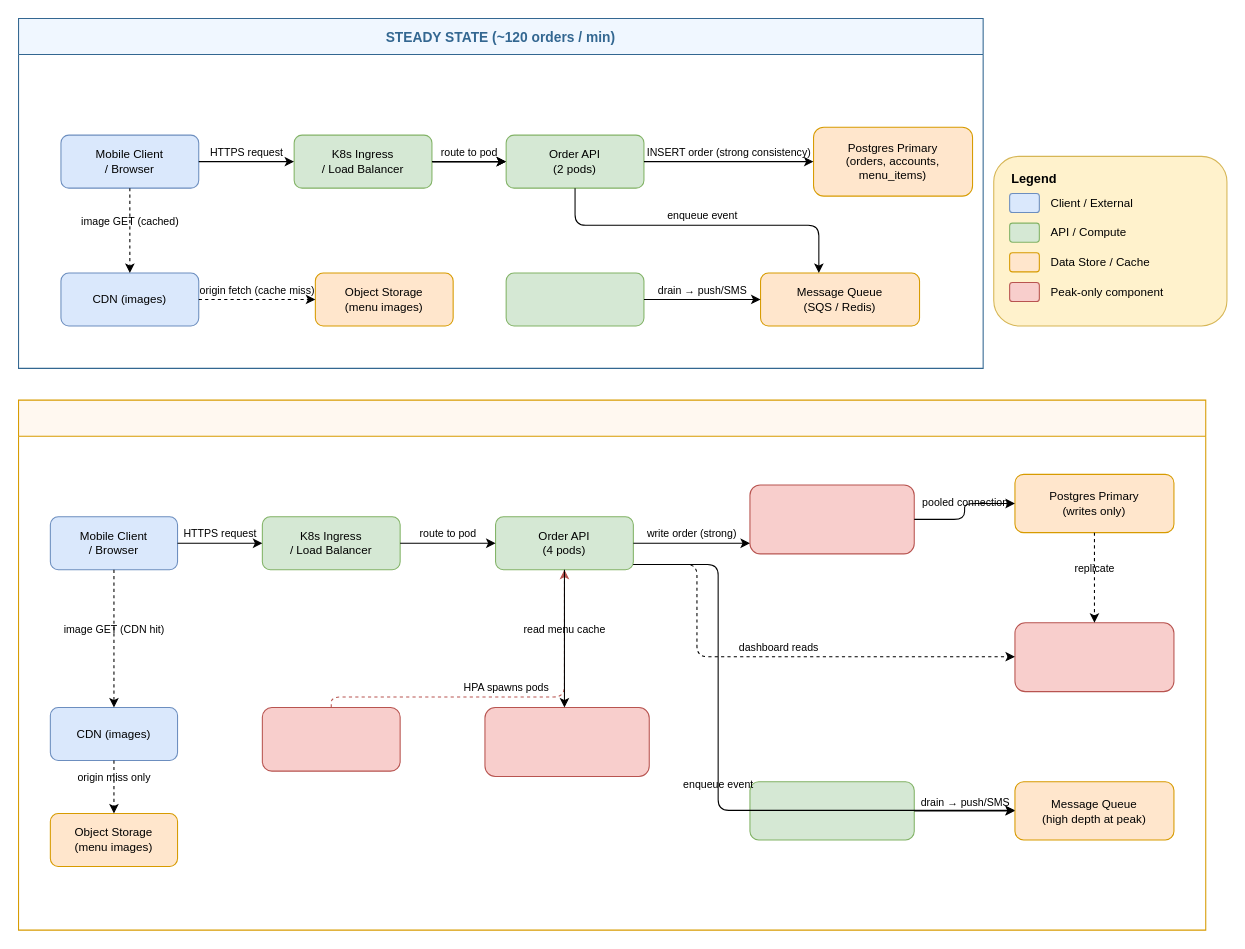
This 1245x949 diagram has some shape labels left out. Each missing label, with the box of its shape:
HPA: +2 extra Order API pods (peak only): (261, 706, 400, 771)
Notification Worker (1 pod): (505, 272, 644, 326)
Notification Workers (3 pods, autoscaled): (749, 781, 914, 840)
PEAK (~480 orders / min — dinner rush / marketing push): (17, 399, 1206, 930)
PgBouncer transaction-mode pooling (peak only): (749, 484, 914, 554)
Postgres Read Replica dashboard + menu reads (peak only): (1014, 622, 1174, 692)
Redis Cache key: menu:{restaurant_id} TTL 60 s (peak only): (484, 706, 649, 776)
